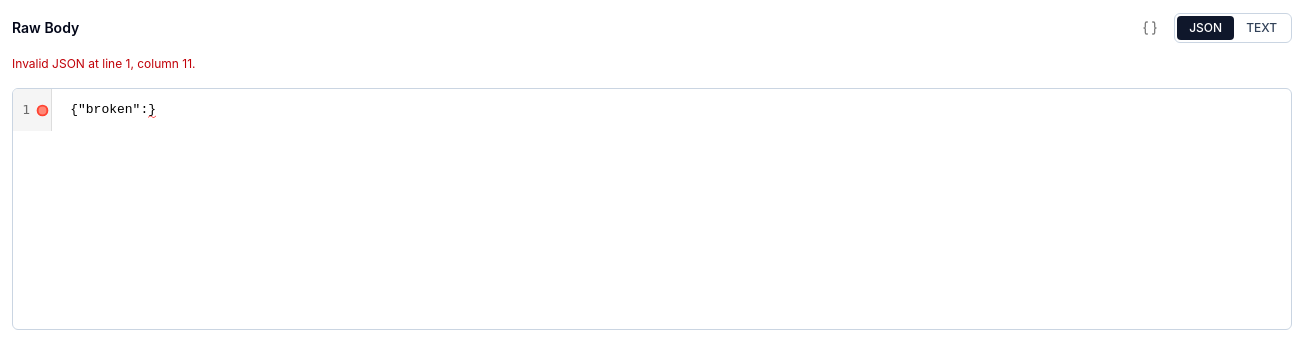
Test: RawBodyEditor JSON tools › clears diagnostics when an edit makes the JSON valid
Expected: the text "Invalid JSON at line 1, column 11." is shown, [12,56,196,71]
Step 1. Click the field with class "cm-content" → (113,110), box [70,102,156,118]
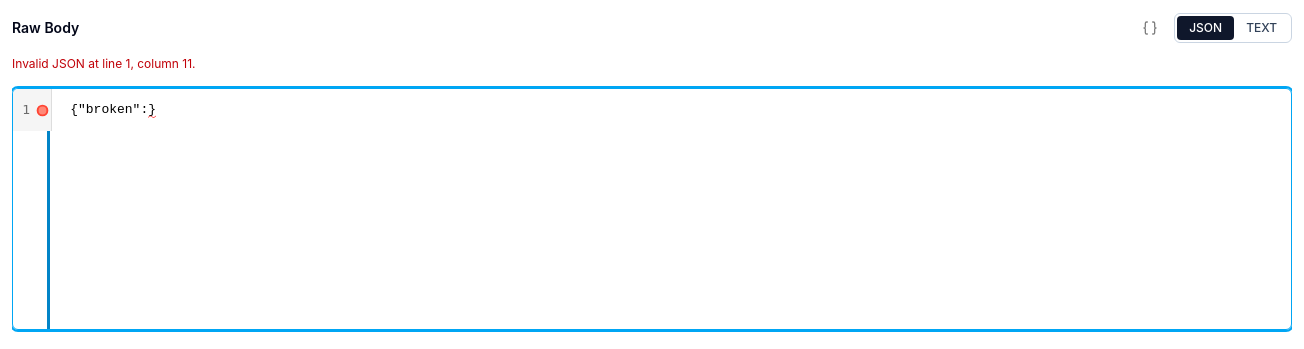
Step 2. Type keys "{Control>}a{/Control}"
Step 3. Type keys "{\"ok\":true}"
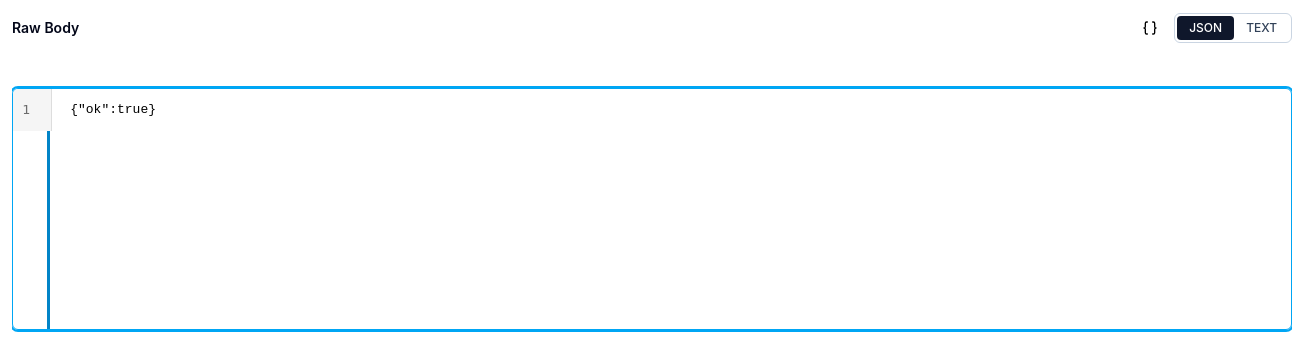
Expected: the element with test id "json-validation-summary" is empty, [12,56,1292,76]
Now the button named "Format JSON" is enabled, box [1134,12,1166,44]
